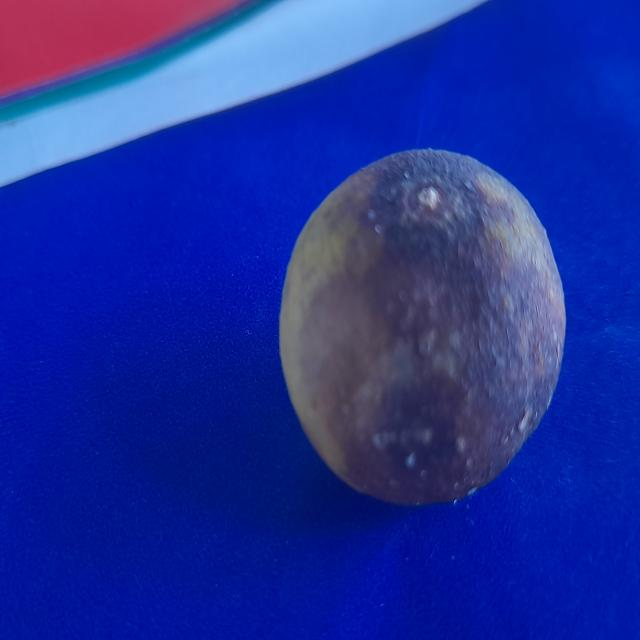black spot: (272, 137, 566, 536)
